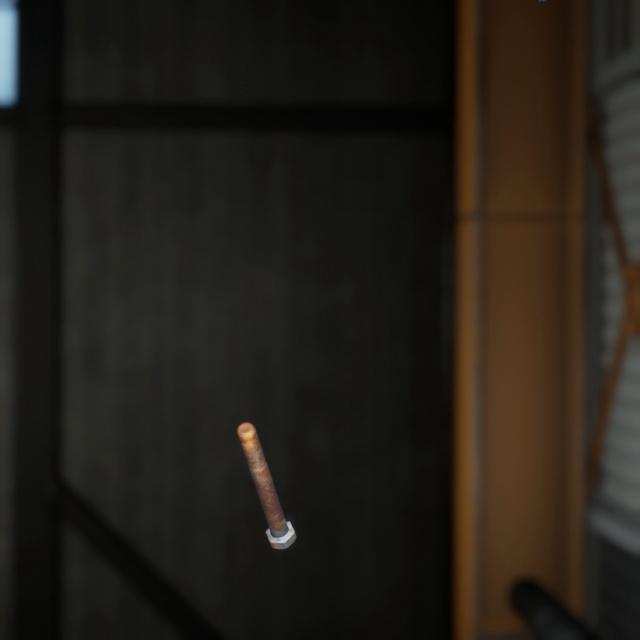bolt: (232, 395, 300, 532)
